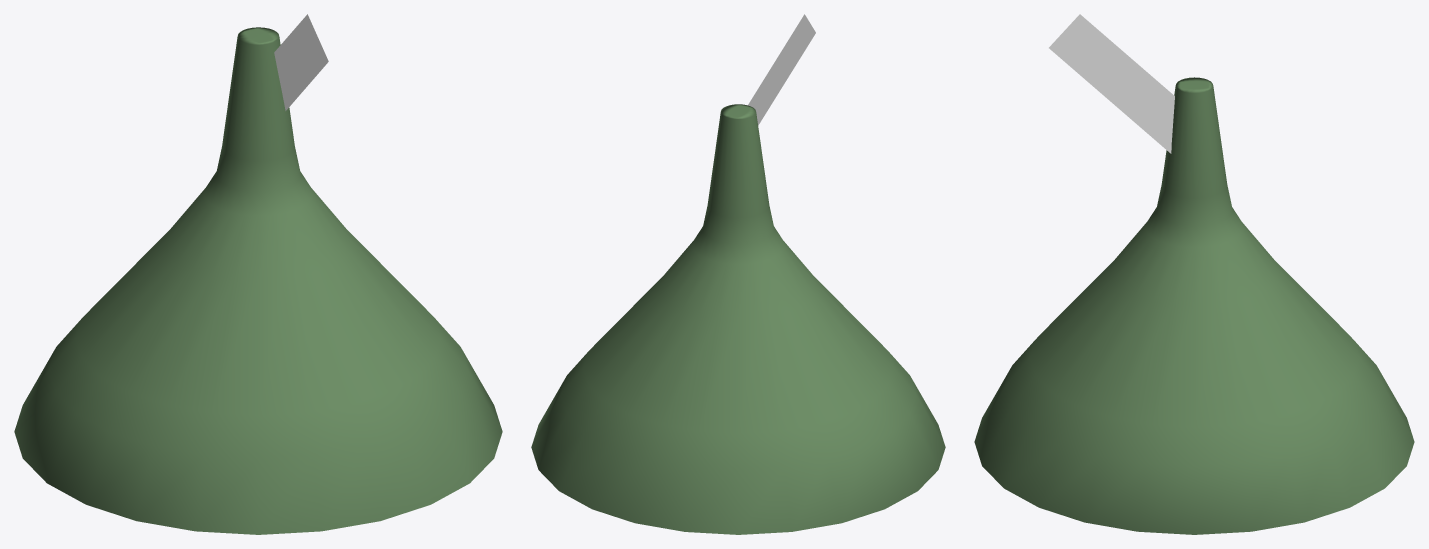
File: Tube3_Drug.fbx
3 renders of one model, left to right at view 1: azimuth 30°, elevation 25°; view 2: azimuth 150°, elevation 25°; view 3: azimuth 270°, elevation 25°, orthographic. The views are drawn at different scales.
Parts seen in each view (by area): view 1: HerseyKiss_GEO, Tag; view 2: HerseyKiss_GEO, Tag; view 3: HerseyKiss_GEO, Tag.
Boxes of the visible parts, bbox=[...] form: HerseyKiss_GEO: bbox=[14, 27, 502, 534]; Tag: bbox=[274, 14, 328, 110]; HerseyKiss_GEO: bbox=[531, 104, 945, 534]; Tag: bbox=[748, 14, 815, 125]; HerseyKiss_GEO: bbox=[974, 77, 1414, 534]; Tag: bbox=[1049, 14, 1174, 153].
Size of the model in its own units: 2.68 by 2.85 by 2.68.
